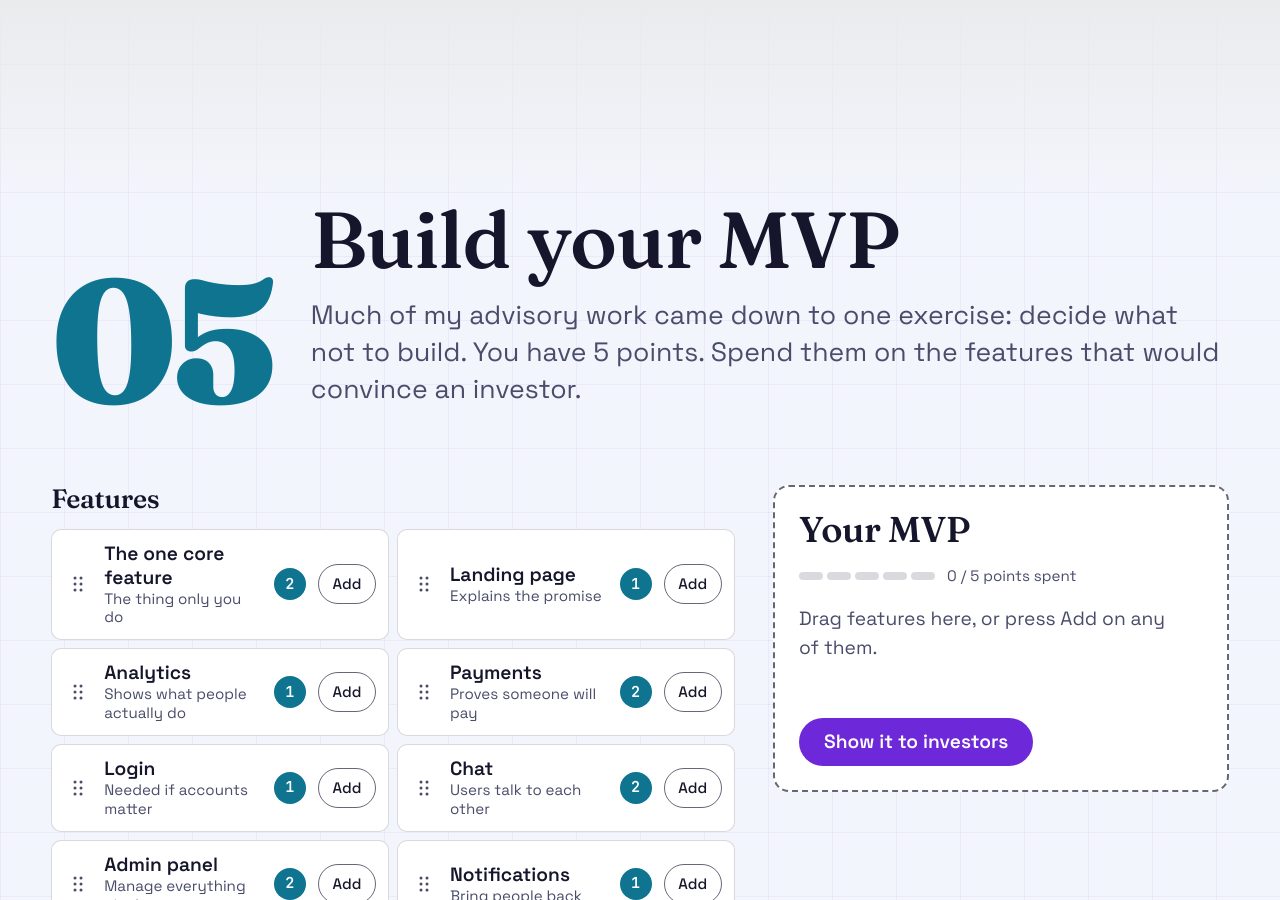
it: MvpBuilder › removes a feature with the same control, and Try again starts over
Click the button "Add" in the row of "Login": point(347, 788) x1=318 y1=768 x2=376 y2=808
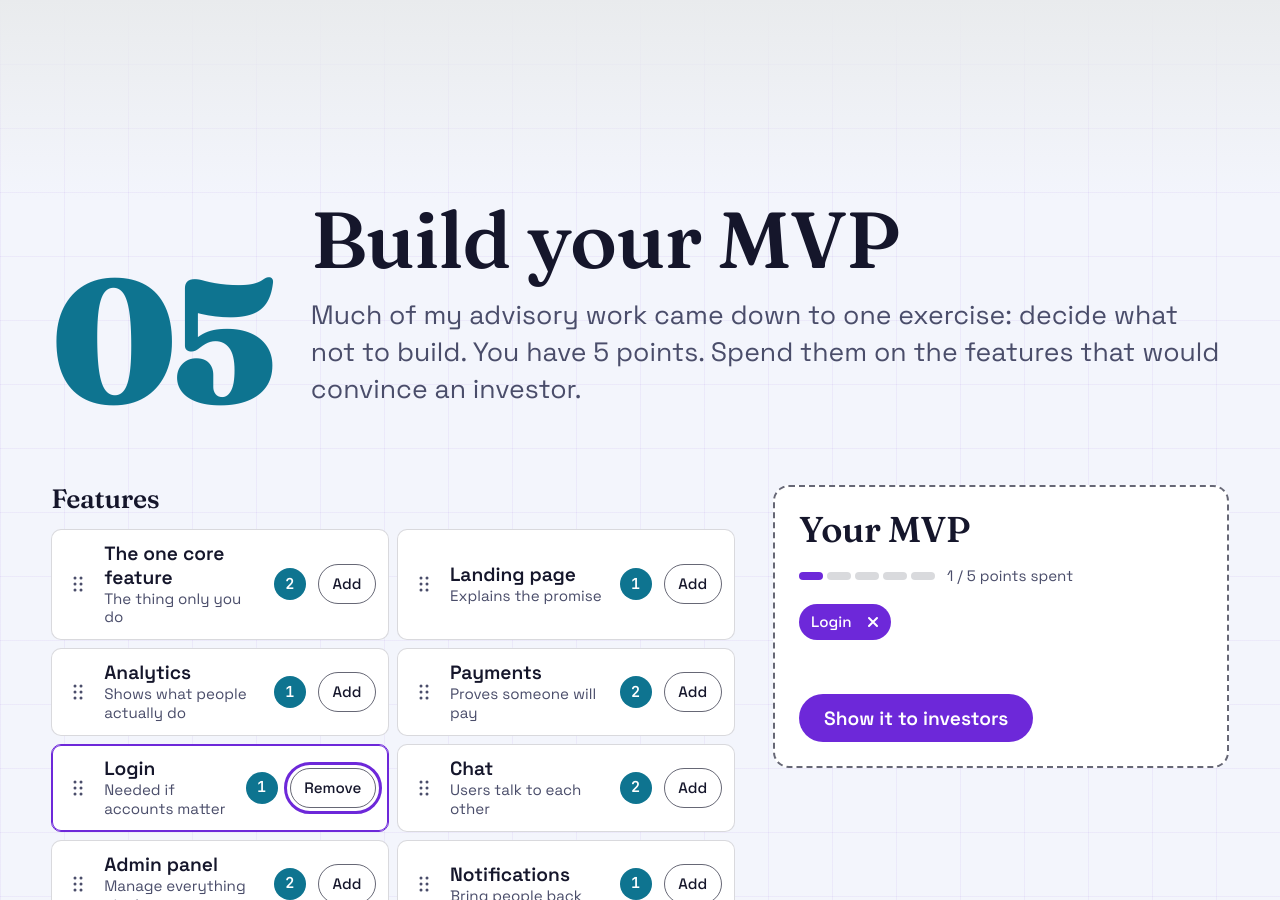
Click the button "Remove": point(333, 788) x1=290 y1=768 x2=376 y2=808
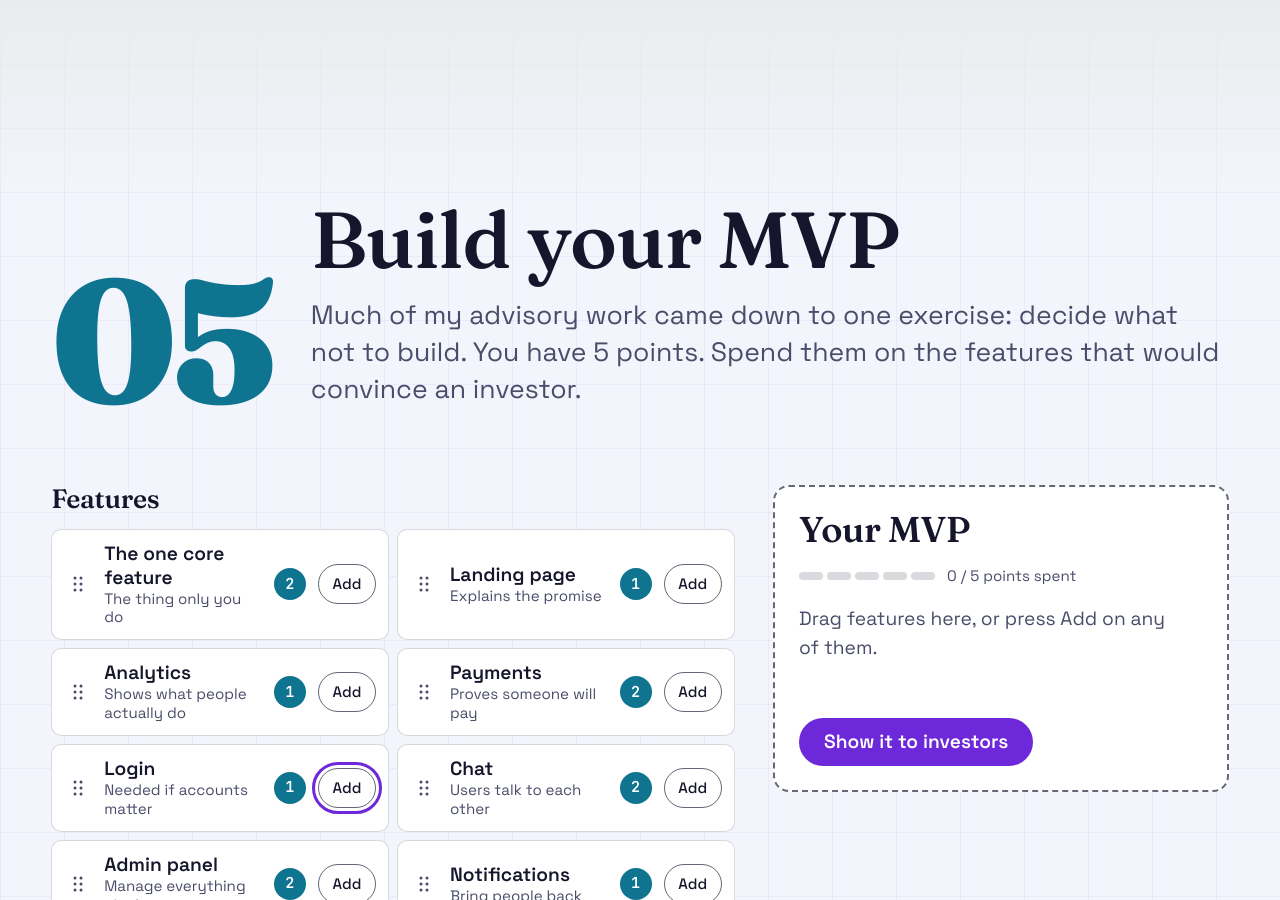
Click the button "Show it to investors": point(916, 742) x1=799 y1=718 x2=1033 y2=766
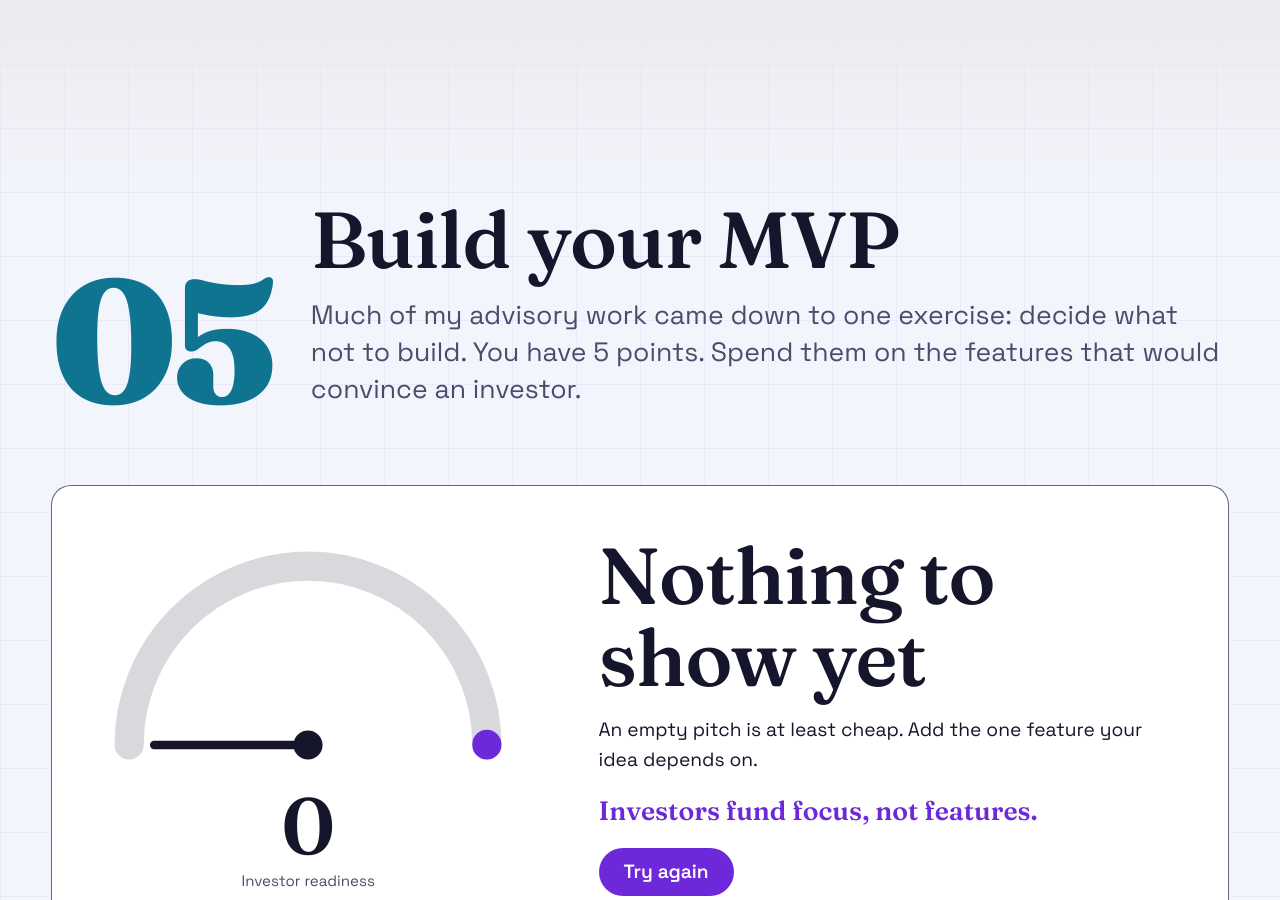
Click the button "Try again": point(666, 872) x1=598 y1=848 x2=734 y2=896
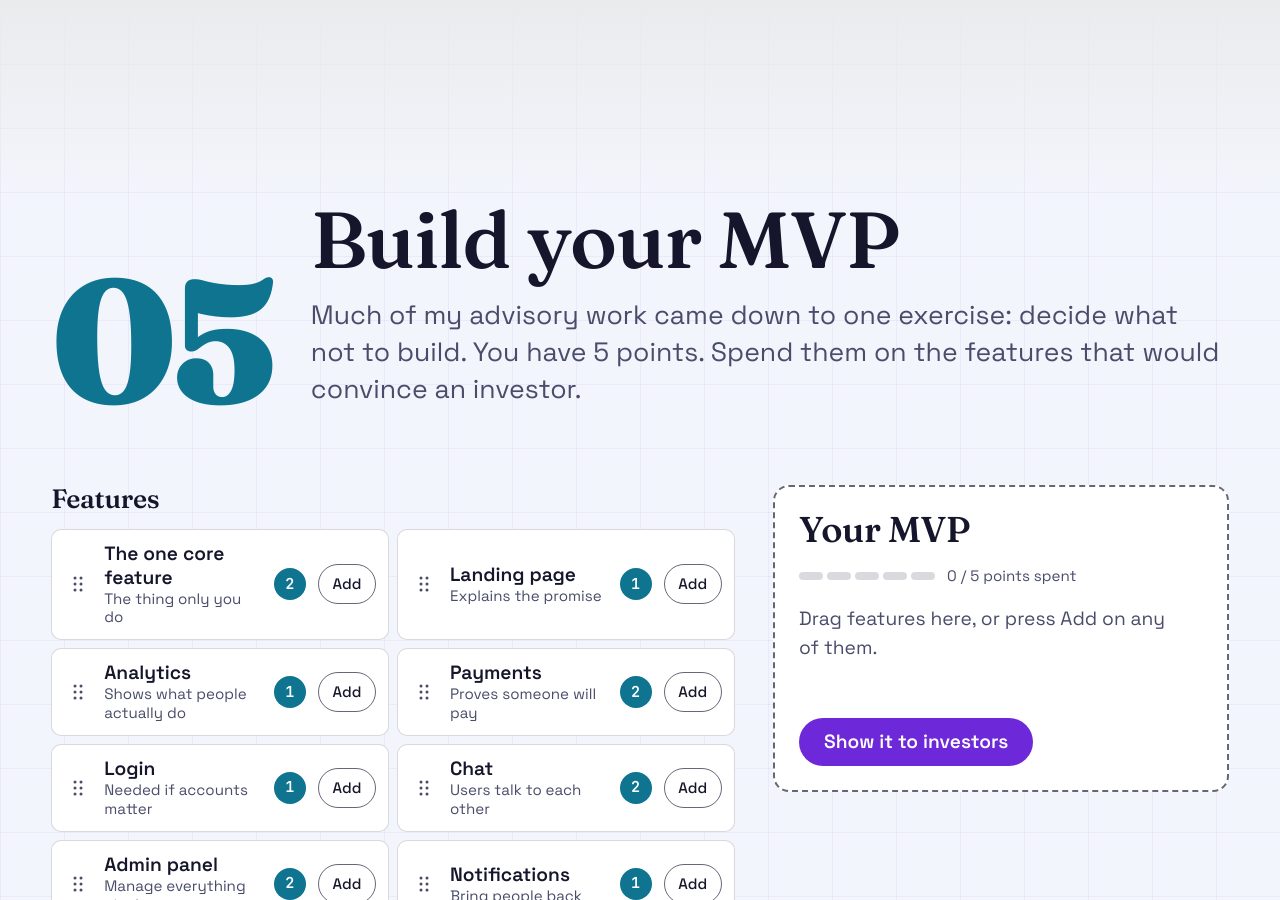
expect the text "Drag features here, or press Add on any of them." is shown: met, box x1=799 y1=604 x2=1203 y2=663
